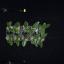leaf: (32, 21, 39, 28), (40, 34, 48, 40), (38, 39, 43, 48), (6, 21, 12, 28), (8, 38, 13, 46), (44, 22, 50, 28), (34, 34, 40, 40), (8, 28, 15, 33), (29, 28, 34, 35), (33, 40, 38, 47), (22, 39, 26, 47), (15, 22, 20, 28), (24, 21, 28, 28), (16, 39, 20, 46), (42, 22, 46, 28), (39, 28, 43, 34), (17, 33, 21, 39), (24, 34, 28, 39), (30, 39, 34, 44), (41, 29, 44, 35), (38, 24, 42, 28), (6, 34, 10, 38), (15, 28, 18, 32), (9, 34, 12, 38), (30, 28, 33, 31), (25, 28, 29, 30), (42, 29, 44, 30)
